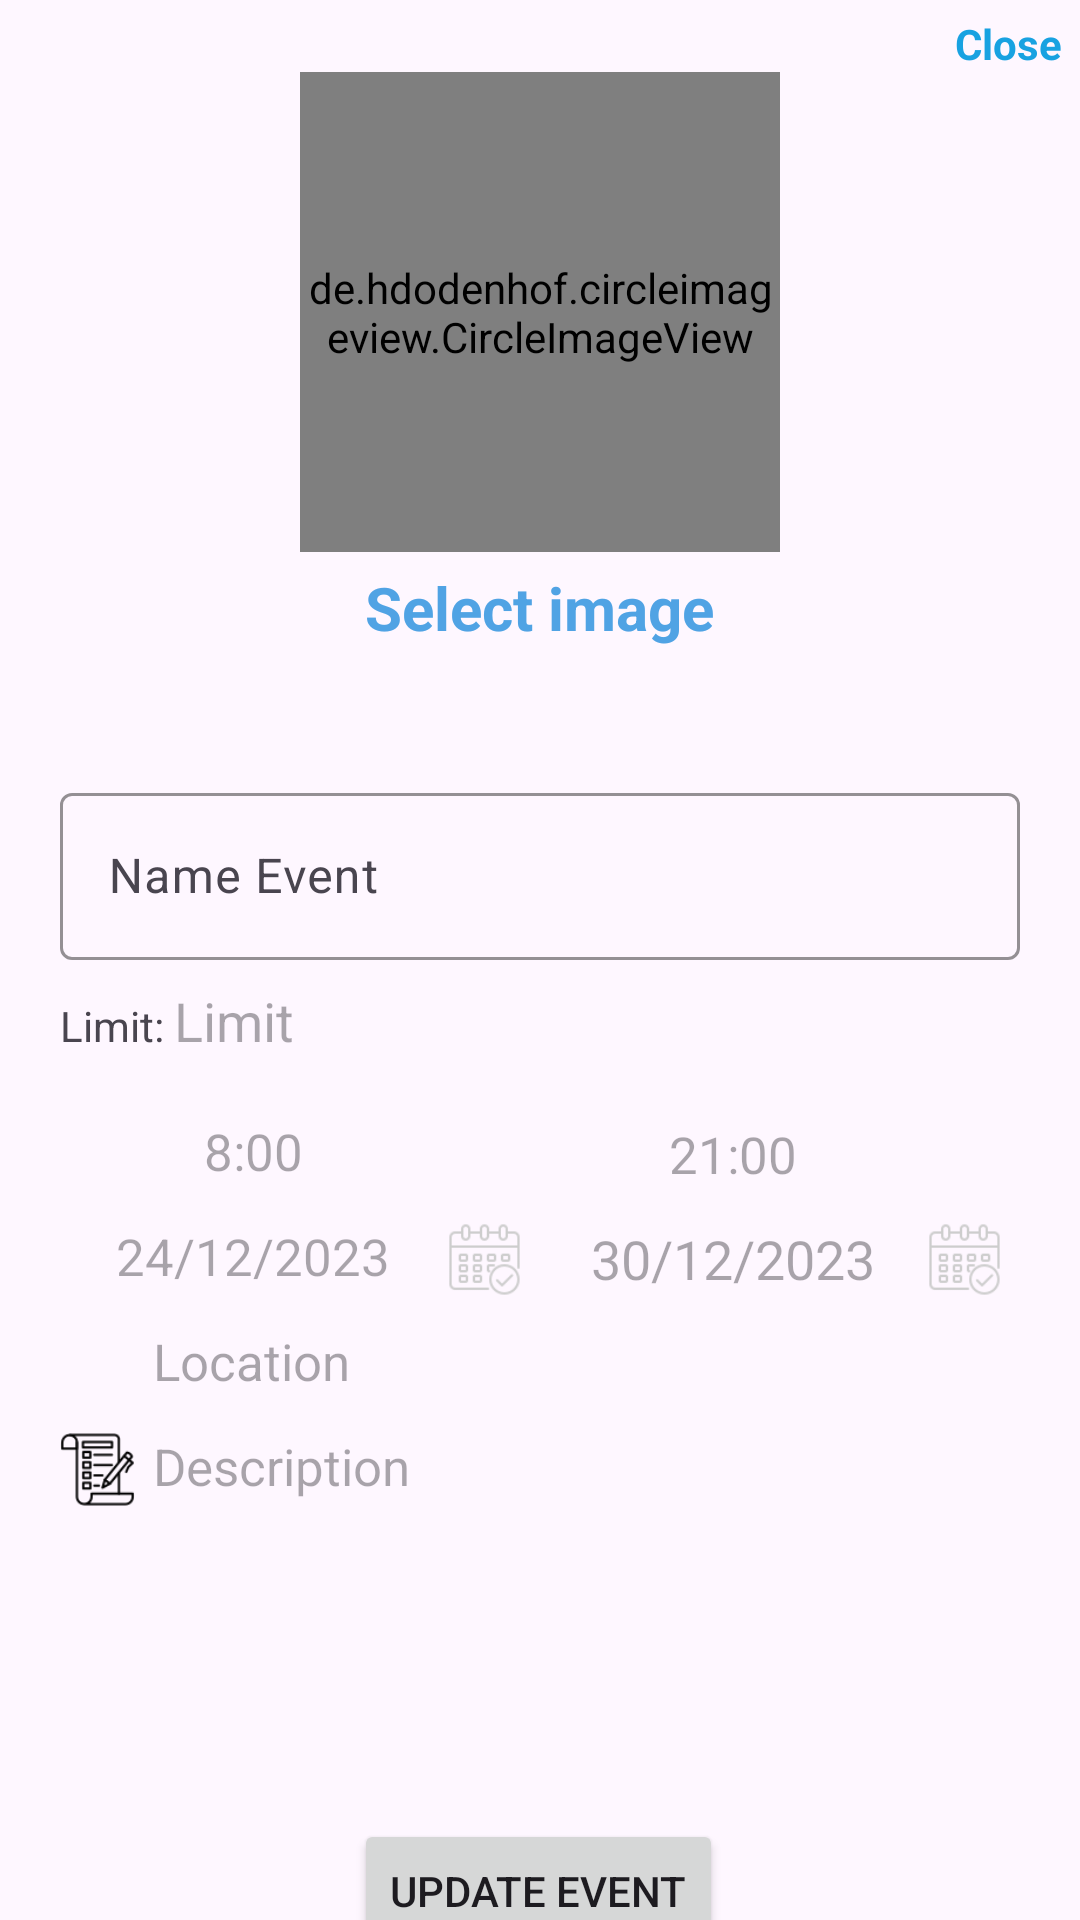

Named icons in this screenshot (1080px×1920px) and their centers, (x=x, y=y):
calendar: (x=484, y=1259), (x=964, y=1259)
